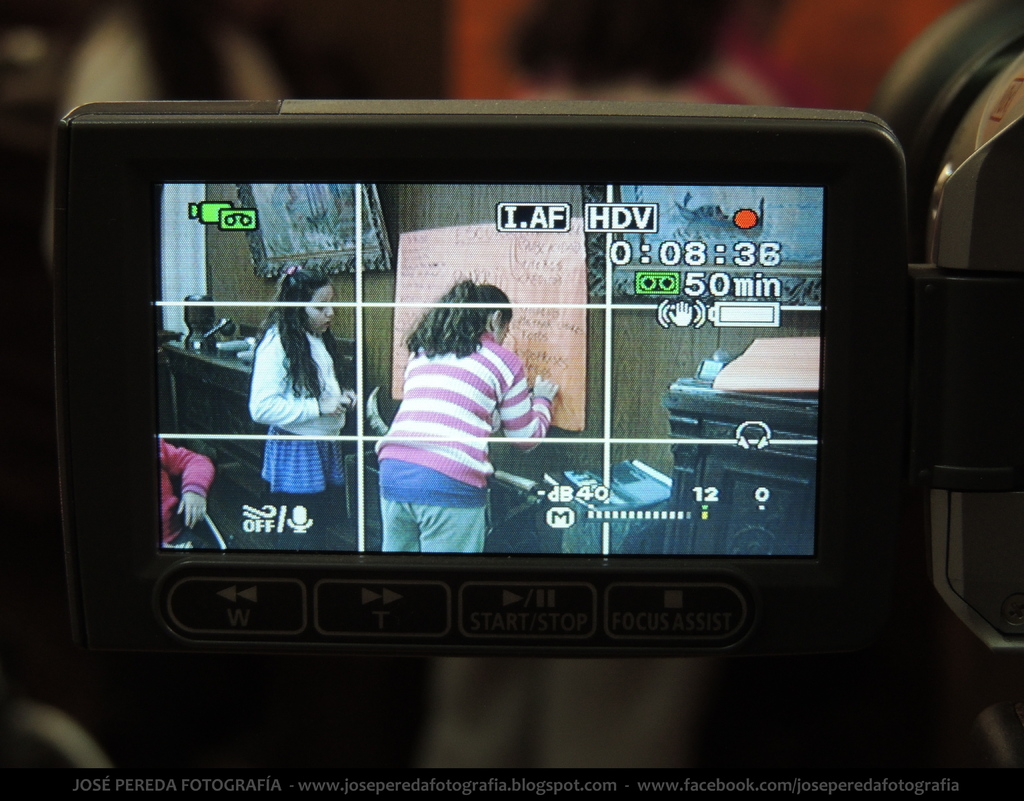Person: (374, 276, 560, 553), (246, 263, 362, 551), (156, 435, 215, 551)
